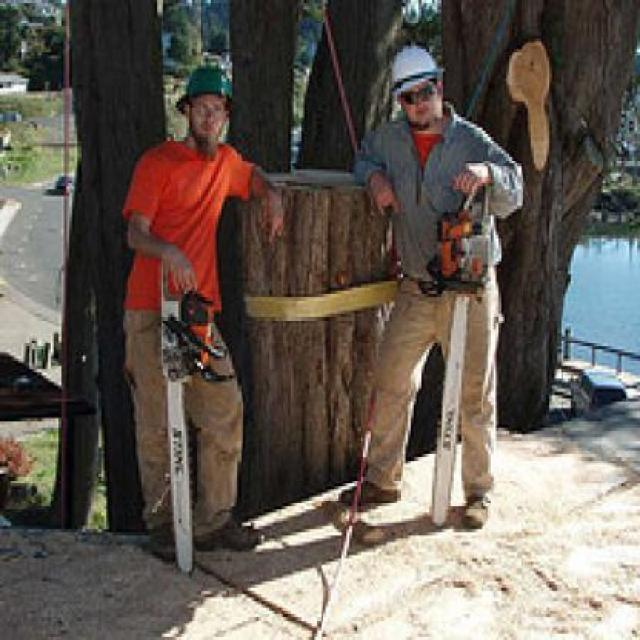Chainsaw: (418, 211, 491, 523), (162, 291, 232, 574)
